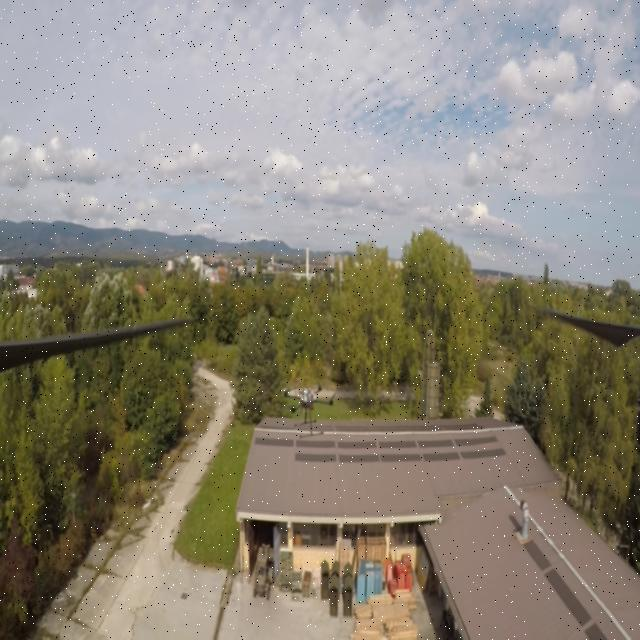UAV: (281, 378, 339, 440)
